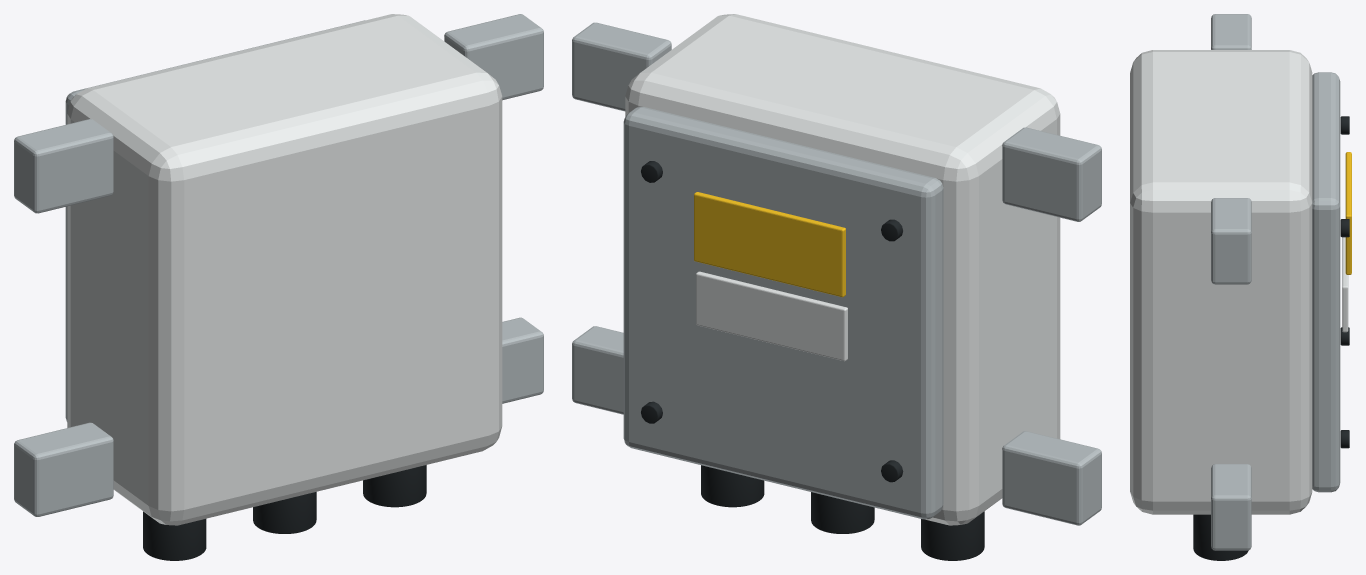
File: industrial_junction_box.glb
The picture shows the model from 3 angles, left to right: view 1: azimuth 30°, elevation 25°; view 2: azimuth 150°, elevation 25°; view 3: azimuth 270°, elevation 25°; orthographic projection. The views are drawn at different scales.
Visible parts, largest first — view 1: JBOX_body, MOUNTING_lug_-0.43_0.16, MOUNTING_lug_-0.43_0.74, MOUNTING_lug_0.43_0.74, MOUNTING_lug_0.43_0.16, GLAND_-0.22, GLAND_0.22, GLAND_0, JBOX_cover; view 2: JBOX_cover, JBOX_body, WARNING_label, TERMINAL_label, MOUNTING_lug_-0.43_0.74, MOUNTING_lug_-0.43_0.16, MOUNTING_lug_0.43_0.74, MOUNTING_lug_0.43_0.16, GLAND_-0.22, GLAND_0.22, GLAND_0; view 3: JBOX_body, JBOX_cover, MOUNTING_lug_0.43_0.16, MOUNTING_lug_0.43_0.74, MOUNTING_lug_-0.43_0.74, GLAND_0.22, WARNING_label, TERMINAL_label.
Boxes of the visible parts, bbox=[...] form: JBOX_body: bbox=[67, 14, 502, 525]; MOUNTING_lug_-0.43_0.16: bbox=[14, 422, 113, 516]; MOUNTING_lug_-0.43_0.74: bbox=[14, 119, 113, 213]; MOUNTING_lug_0.43_0.74: bbox=[444, 14, 543, 100]; MOUNTING_lug_0.43_0.16: bbox=[502, 317, 543, 403]; GLAND_-0.22: bbox=[143, 511, 206, 560]; GLAND_0.22: bbox=[363, 465, 426, 507]; GLAND_0: bbox=[253, 492, 316, 533]; JBOX_cover: bbox=[65, 20, 364, 421]; JBOX_cover: bbox=[623, 107, 943, 519]; JBOX_body: bbox=[625, 14, 1060, 525]; WARNING_label: bbox=[694, 192, 845, 297]; TERMINAL_label: bbox=[696, 271, 847, 361]; MOUNTING_lug_-0.43_0.74: bbox=[1002, 127, 1101, 221]; MOUNTING_lug_-0.43_0.16: bbox=[1002, 431, 1101, 525]; MOUNTING_lug_0.43_0.74: bbox=[572, 22, 671, 111]; MOUNTING_lug_0.43_0.16: bbox=[572, 326, 623, 414]; GLAND_-0.22: bbox=[921, 511, 984, 560]; GLAND_0.22: bbox=[701, 465, 764, 507]; GLAND_0: bbox=[811, 492, 874, 533]; JBOX_body: bbox=[1130, 50, 1312, 514]; JBOX_cover: bbox=[1312, 72, 1340, 492]; MOUNTING_lug_0.43_0.16: bbox=[1211, 464, 1251, 550]; MOUNTING_lug_0.43_0.74: bbox=[1211, 198, 1251, 284]; MOUNTING_lug_-0.43_0.74: bbox=[1211, 14, 1251, 49]; GLAND_0.22: bbox=[1193, 514, 1248, 560]; WARNING_label: bbox=[1345, 152, 1351, 274]; TERMINAL_label: bbox=[1342, 237, 1348, 332].
Bounding box in the file's own units: 1.02 × 0.84 × 0.438.
